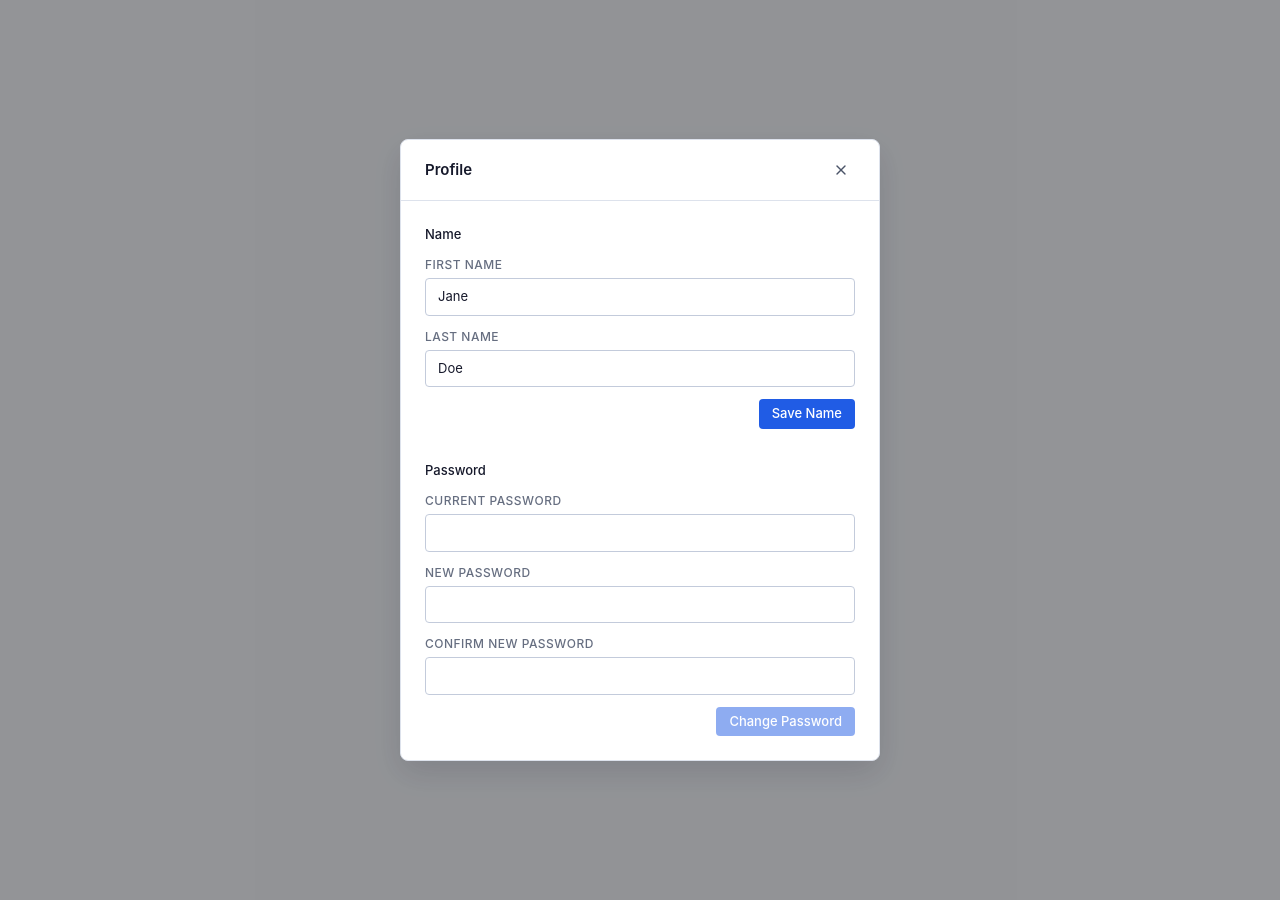
Test case: changing password › surfaces the API error message instead of throwing
The width and height of the screenshot is (1280, 900).
Type "wrong" into the password field labelled "Current Password" at (640, 533), box [425,514,855,552]
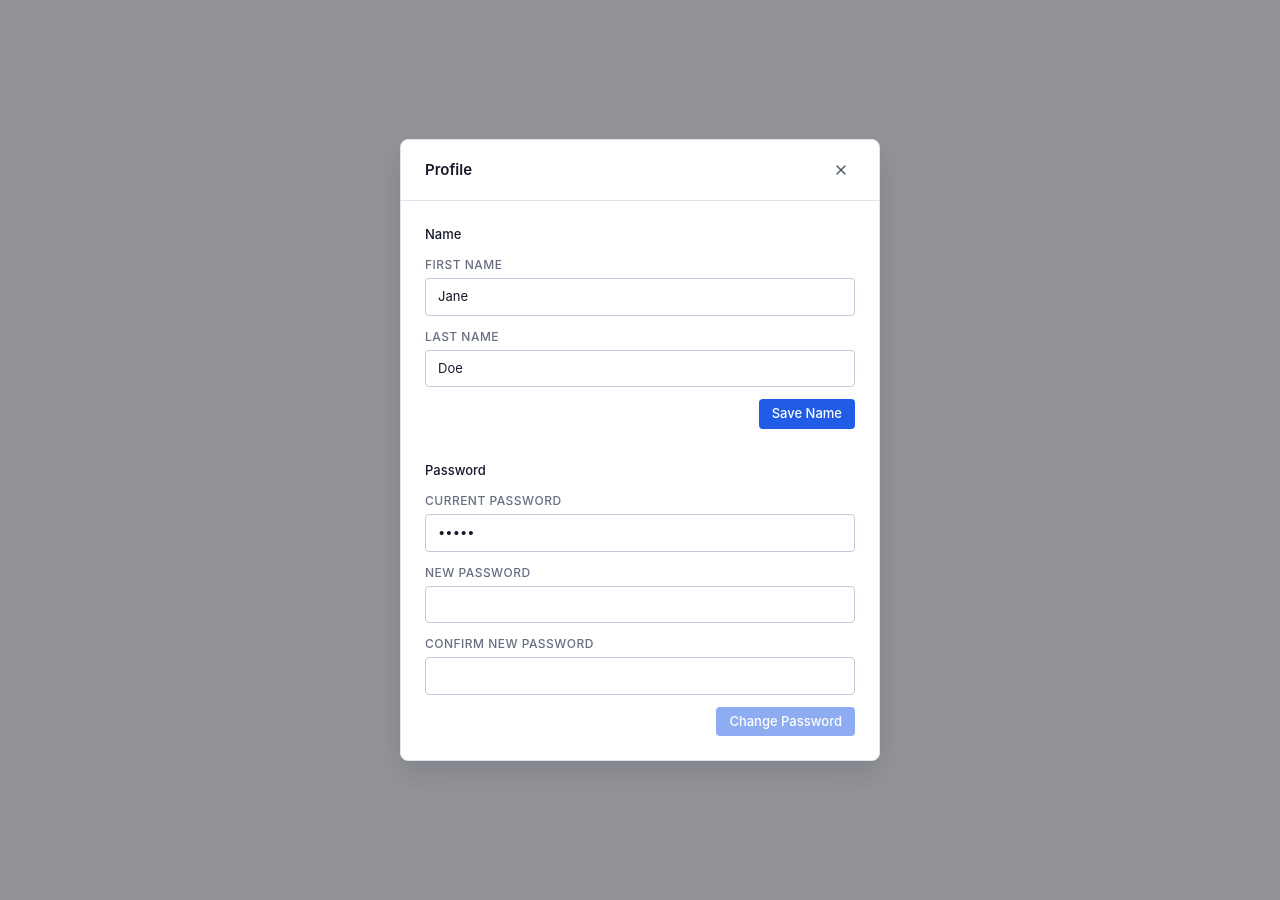
Type "new-pass" into the password field labelled "New Password" at (640, 605), box [425,586,855,623]
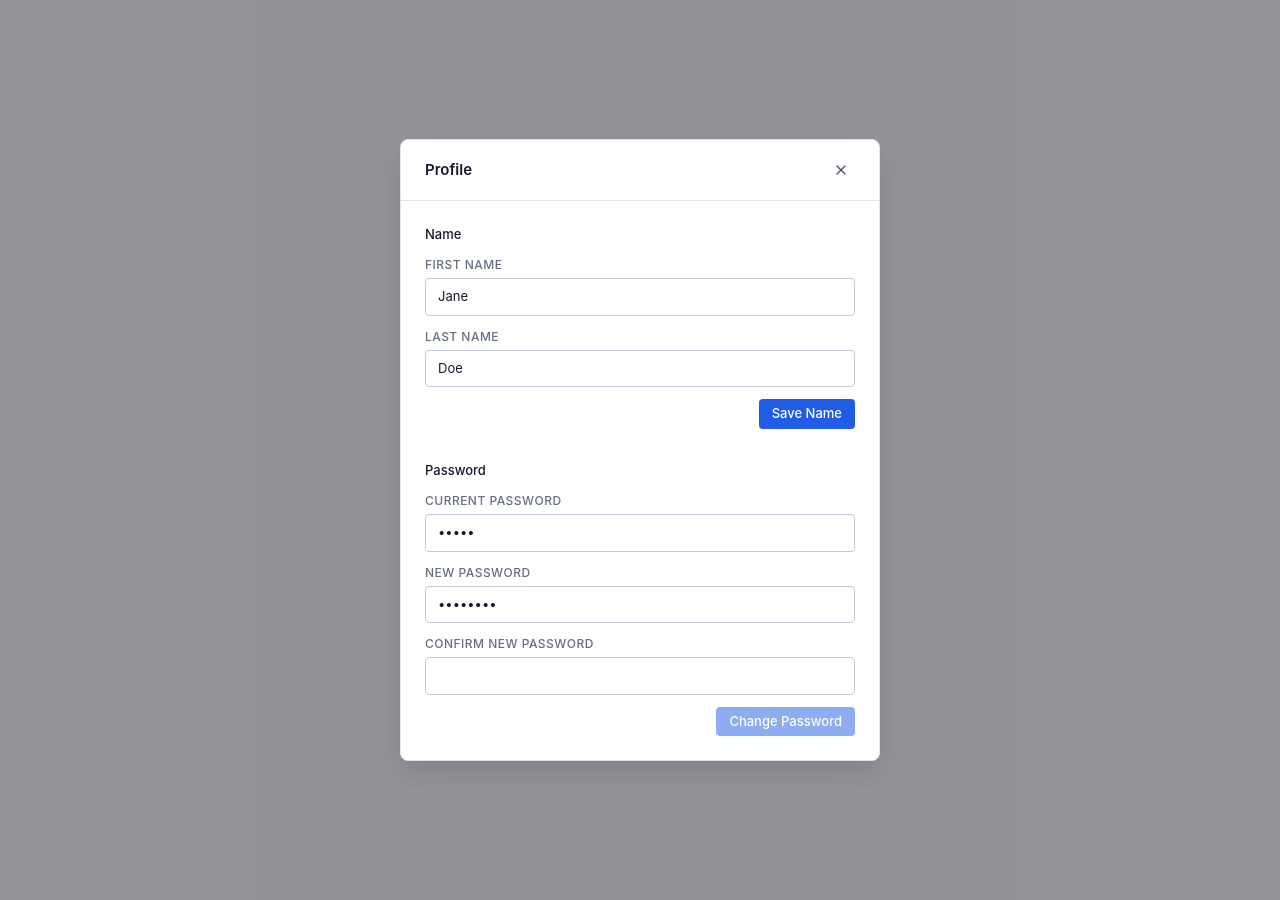
Type "new-pass" into the password field labelled "Confirm New Password" at (640, 676), box [425,657,855,695]
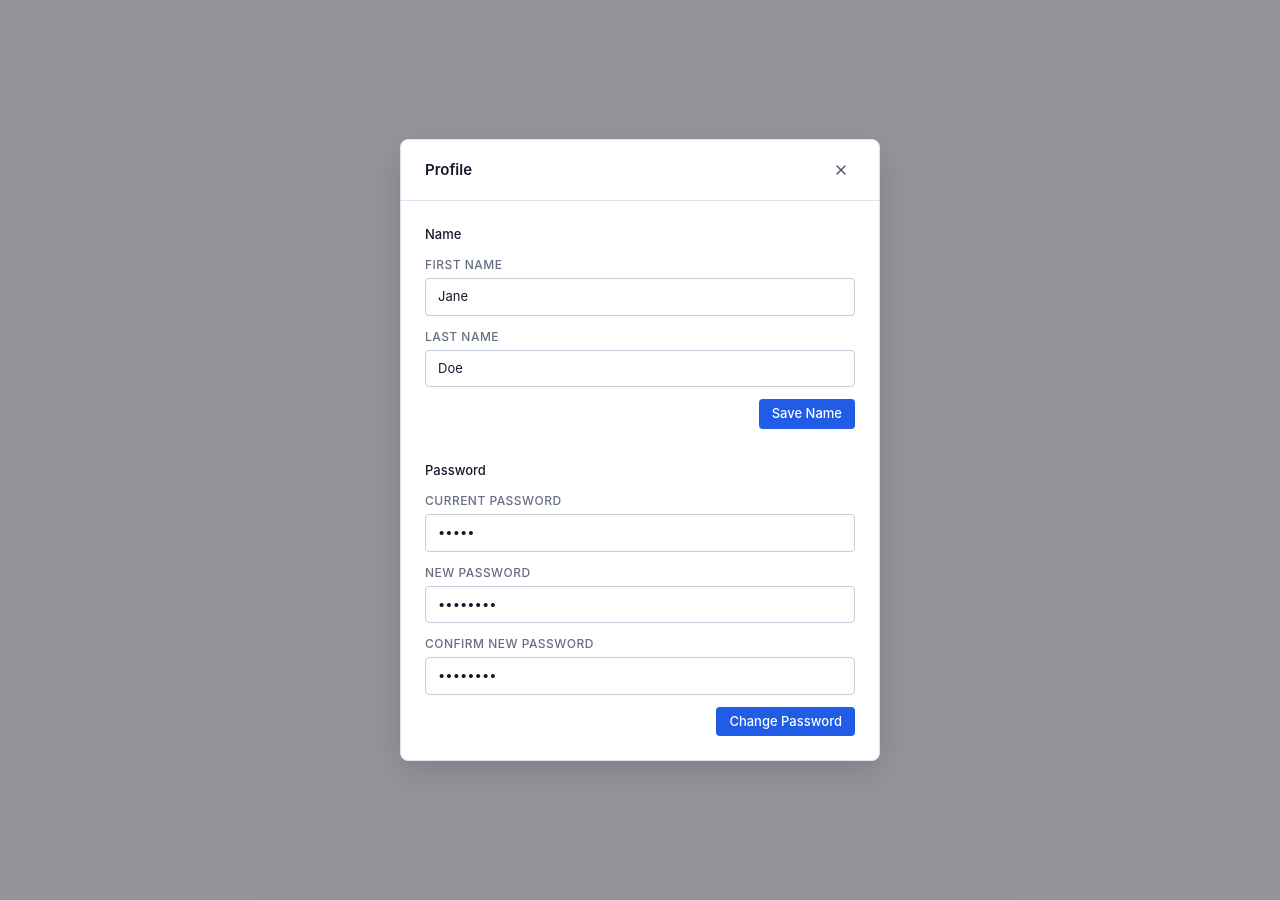
Submit the form that starts with "Current Password", box [425,492,855,736]
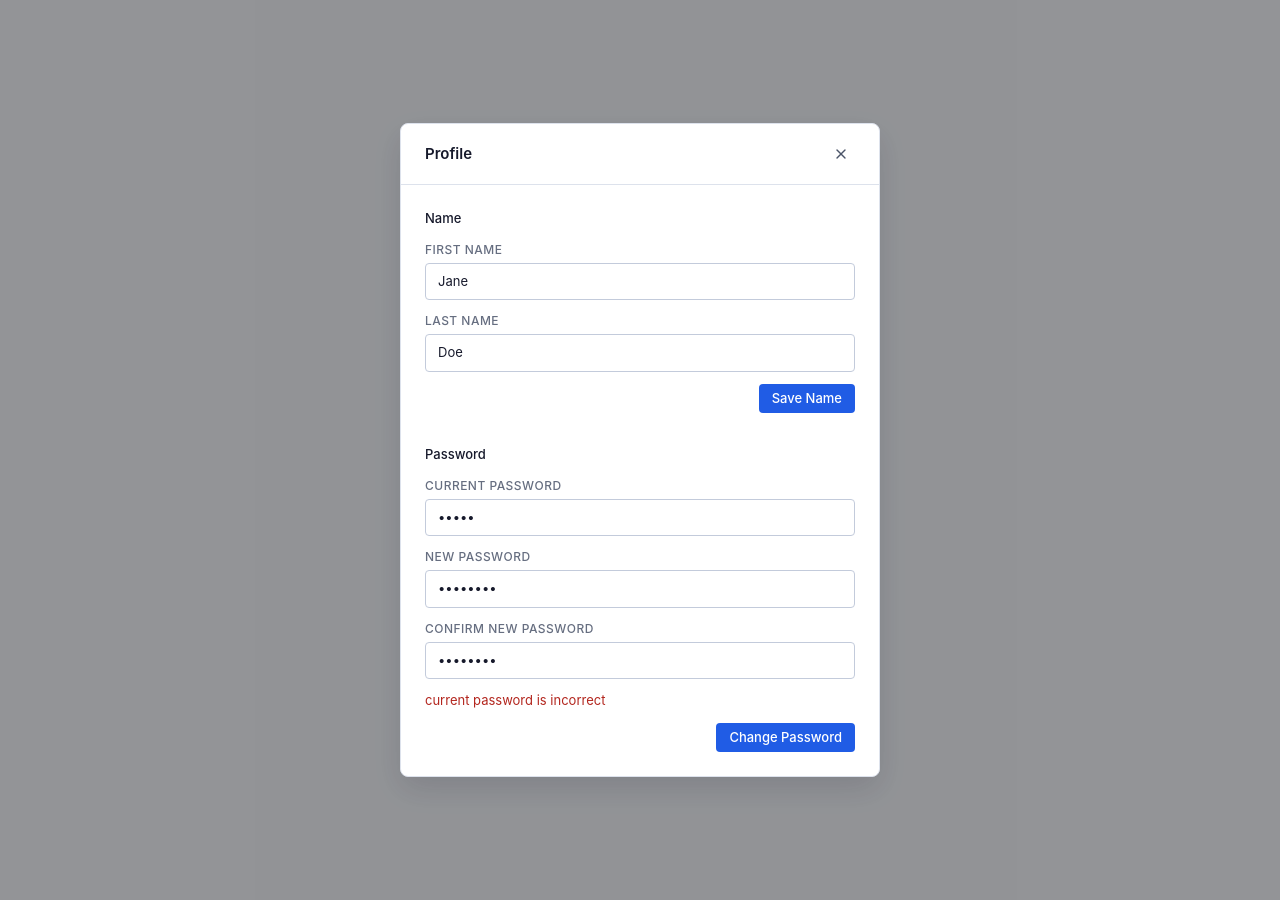
Check: the message "current password is incorrect" is shown, box [425,692,605,708]
